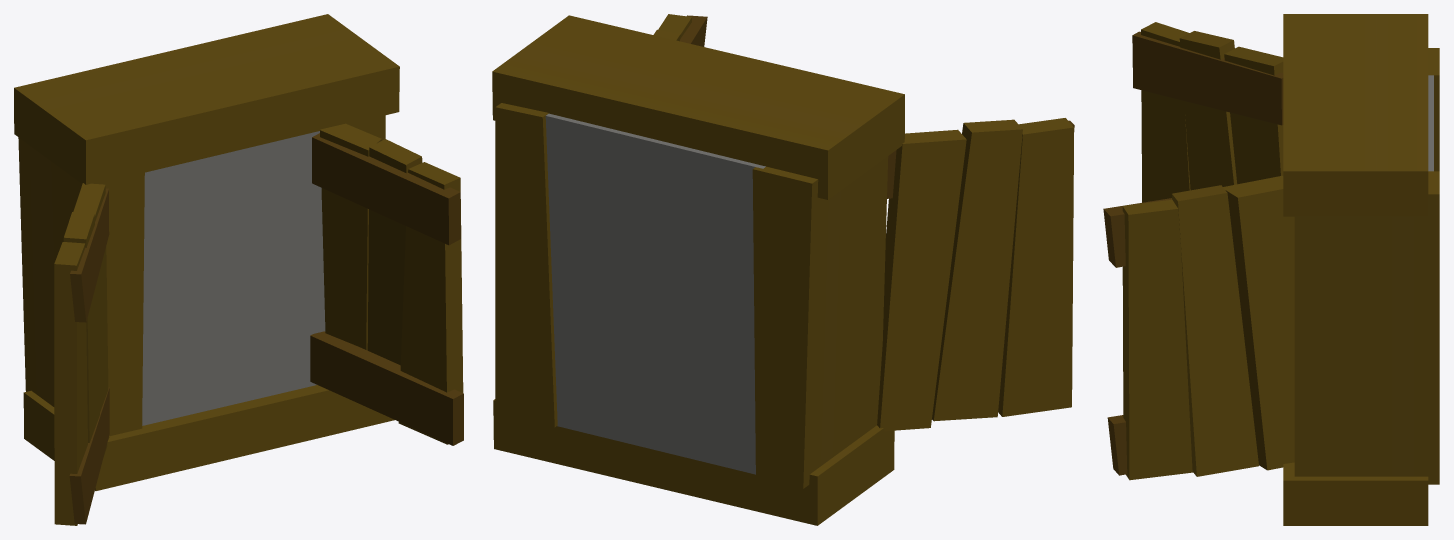
The model's file is SM_OpenWindow_LOD0.fbx.
The picture shows the model from 3 angles, left to right: view 1: azimuth 30°, elevation 25°; view 2: azimuth 150°, elevation 25°; view 3: azimuth 270°, elevation 25°; orthographic projection. The views are drawn at different scales.
Visible parts, largest first — view 1: SM_OpenWindow_LOD0; view 2: SM_OpenWindow_LOD0; view 3: SM_OpenWindow_LOD0.
Boxes of the visible parts, x1,y1,x2,y2 form: SM_OpenWindow_LOD0: (14,14,463,525); SM_OpenWindow_LOD0: (492,14,1074,525); SM_OpenWindow_LOD0: (1103,14,1439,525).
Bounding box in the file's own units: 2.96 × 2.45 × 2.09.
